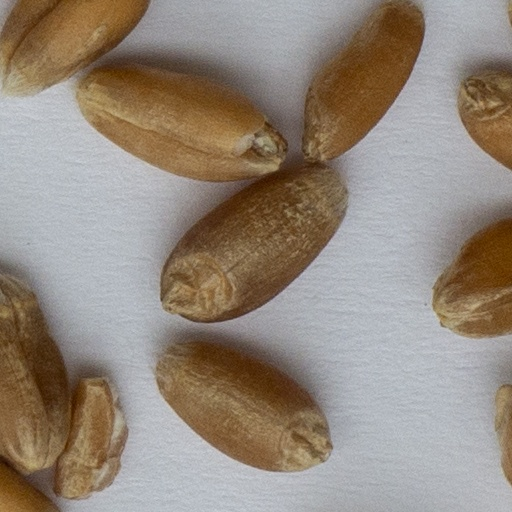Wheat-grain-damaged-poly: (51, 362, 132, 498)
